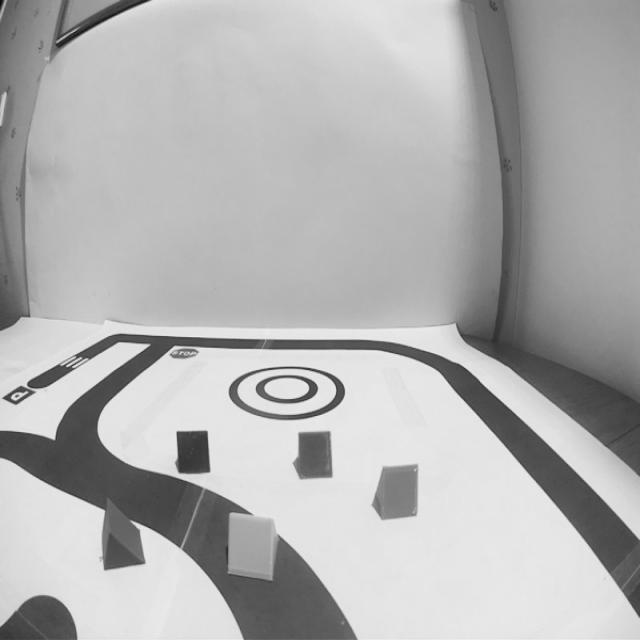cockade: (224, 361, 348, 423)
laneLeftTurn: (167, 491, 363, 640)
triangle: (225, 508, 283, 582), (97, 496, 147, 574), (372, 462, 420, 524), (296, 428, 334, 482), (174, 427, 213, 479)
